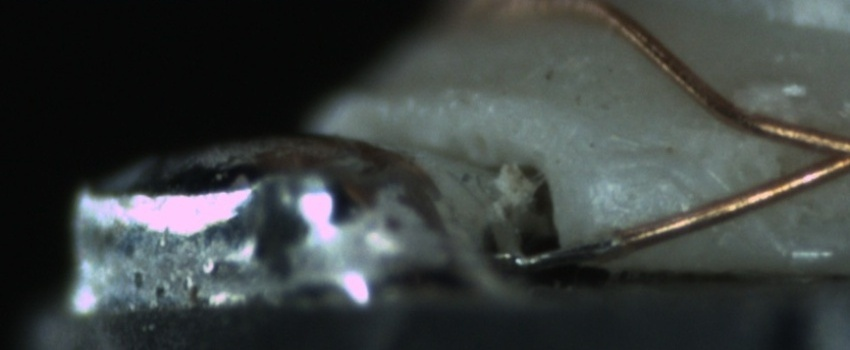CL: (776, 114, 849, 191)
DL: (590, 127, 691, 189)
TS: (511, 235, 614, 268)
